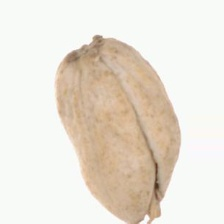L1: (137, 163, 171, 224), (60, 34, 107, 60)
L2: (54, 34, 183, 223)
